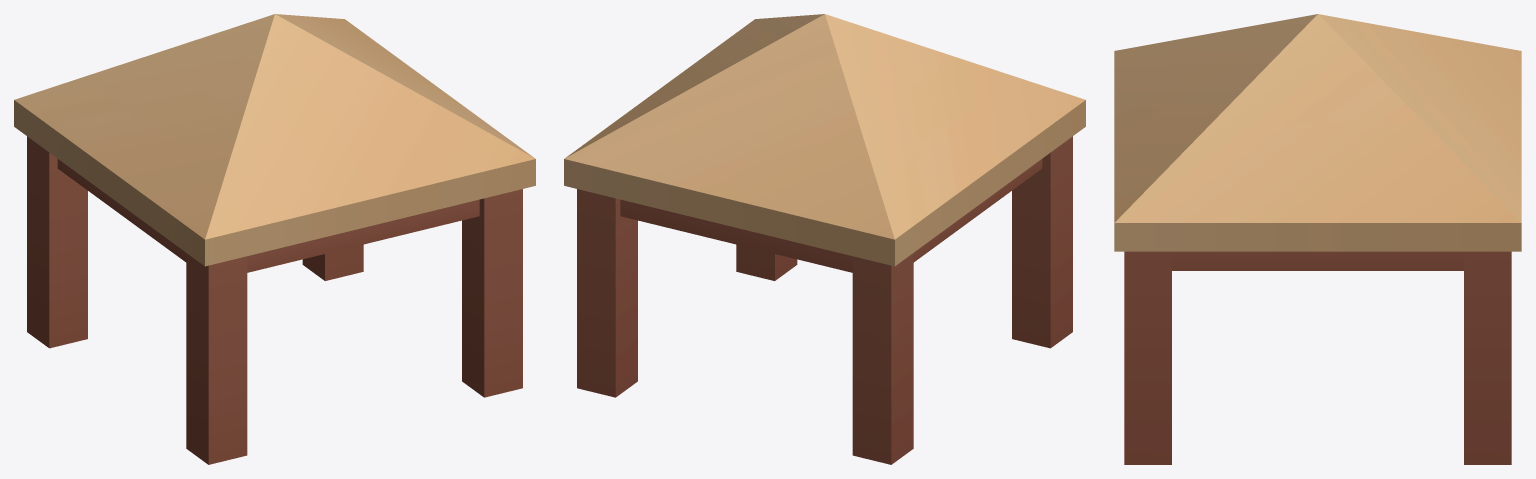
File: tienda.glb
3 renders of one model, left to right at view 1: azimuth 30°, elevation 25°; view 2: azimuth 150°, elevation 25°; view 3: azimuth 270°, elevation 25°, orthographic. The views are drawn at different scales.
Parts seen in each view (by area): view 1: tent; view 2: tent; view 3: tent.
Boxes of the visible parts, x1,y1,x2,y2 form: tent: (14, 14, 535, 464); tent: (564, 14, 1085, 464); tent: (1114, 14, 1521, 464).
Bounding box in the file's own units: 2.15 × 2.15 × 2.15.
Materials: 1 (1 with a texture image).
